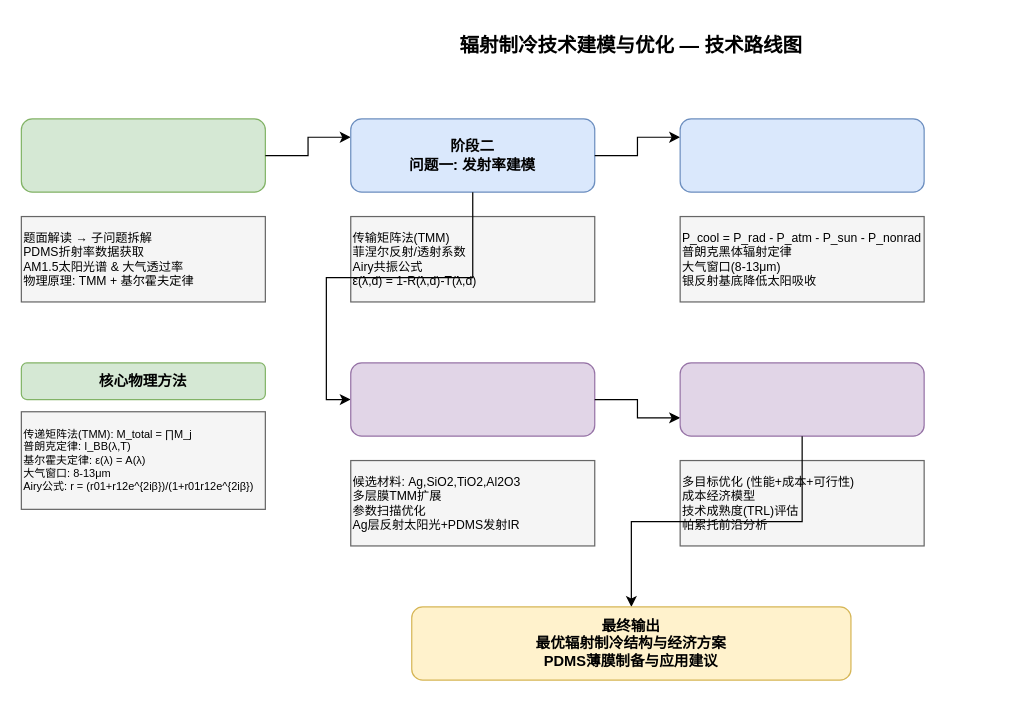
Some shapes in this 1019 by 702 pixel diagram are drawn without their labels. Here are the shapes that lost their labels. From the top down, the box of each, then its label:
(20, 118, 265, 192): 阶段一 赛题分析与数据准备
(679, 118, 924, 192): 阶段三 问题二: 制冷性能评估
(350, 362, 595, 436): 阶段四 问题三: 多层膜优化
(679, 362, 924, 436): 阶段五 问题四: 综合优化与评估
